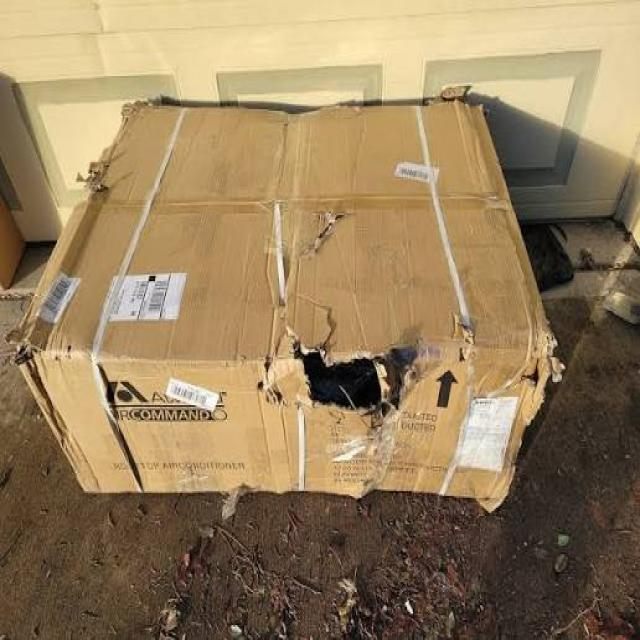package_damage: (246, 294, 460, 479), (65, 96, 154, 206), (514, 320, 576, 426), (420, 77, 500, 123), (4, 313, 51, 378)
